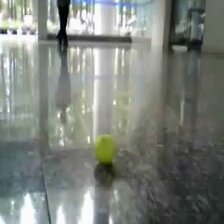tennis: (94, 134, 116, 163)
